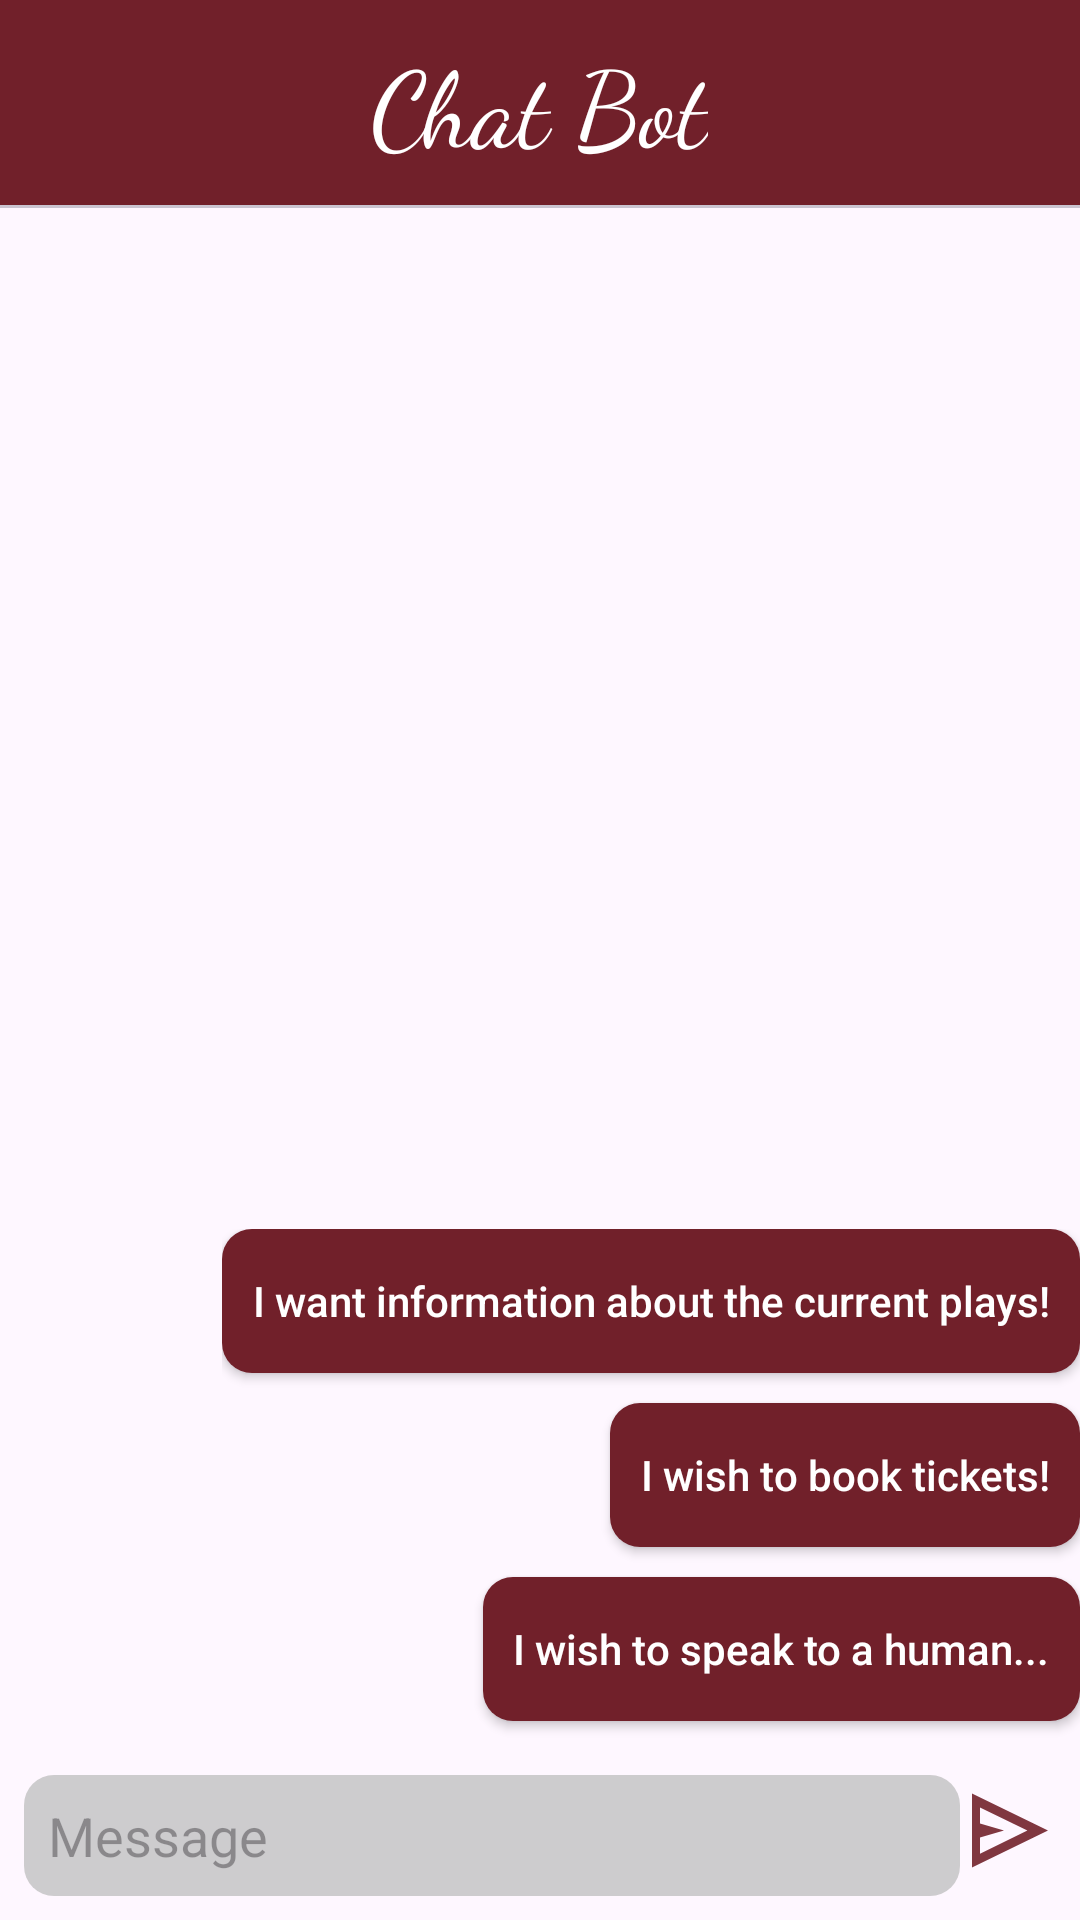

Named icons in this screenshot (1080w x 1920h) and their centers, point (x, y):
send: point (1010, 1830)
